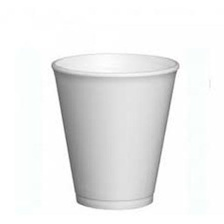paper_cup: (46, 48, 182, 214)
